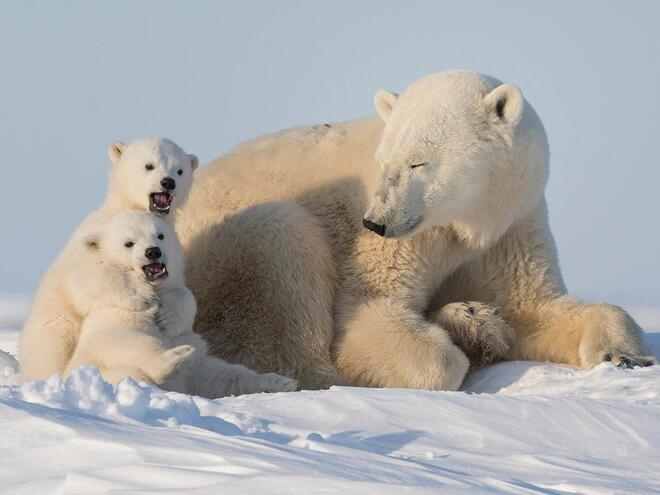bear: (176, 69, 654, 391), (21, 136, 194, 381), (66, 213, 298, 393)
